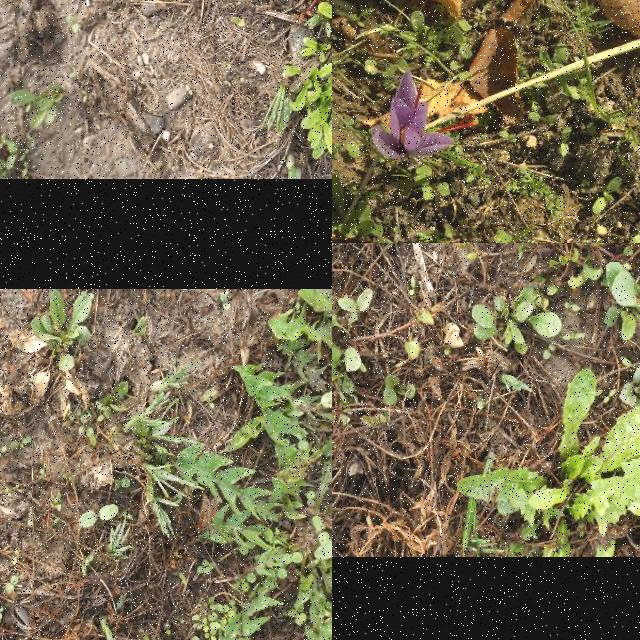flower: (372, 71, 478, 159)
